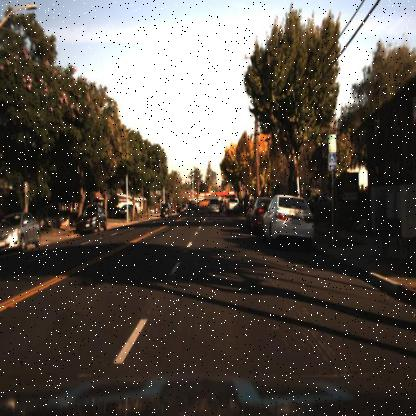car: (262, 192, 314, 248), (0, 212, 42, 256), (250, 192, 274, 233), (77, 204, 107, 235), (207, 195, 224, 216), (226, 193, 241, 214), (184, 197, 200, 213), (159, 202, 173, 220), (159, 203, 173, 219)
